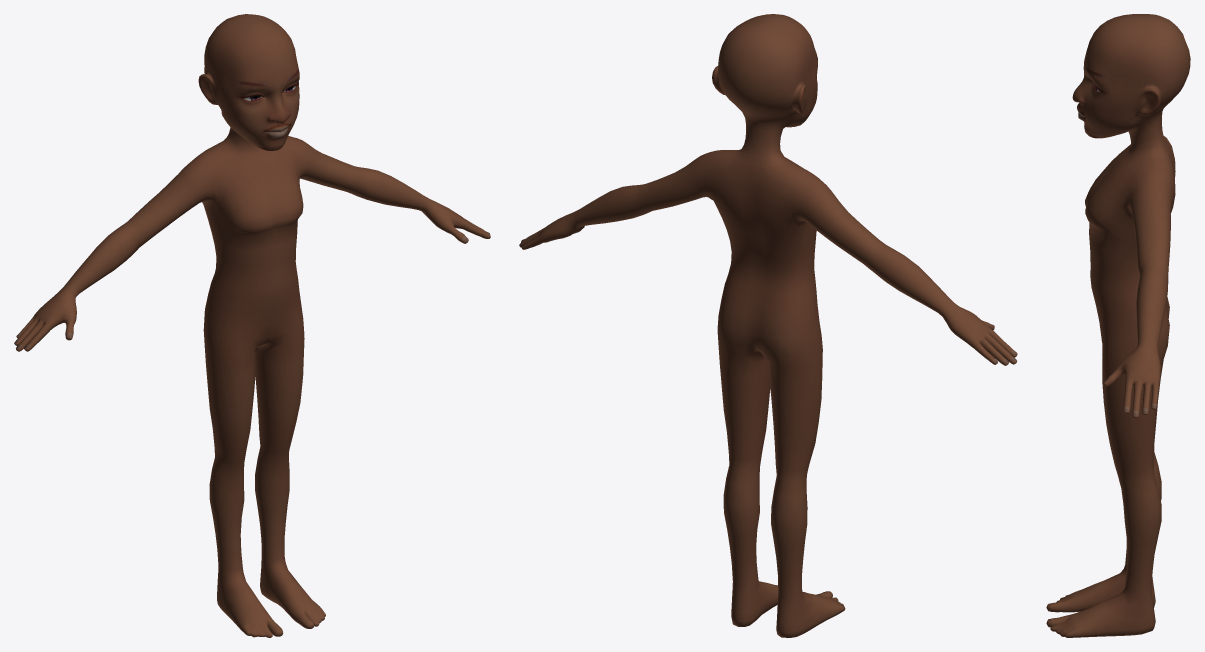
File: frame_0002.glb
The picture shows the model from 3 angles, left to right: view 1: azimuth 30°, elevation 25°; view 2: azimuth 150°, elevation 25°; view 3: azimuth 270°, elevation 25°; orthographic projection. The views are drawn at different scales.
Parts seen in each view (by area): view 1: frame_0002_head_geo; view 2: frame_0002_head_geo; view 3: frame_0002_head_geo.
Boxes of the visible parts, x1,y1,x2,y2 form: frame_0002_head_geo: (14,14,490,637); frame_0002_head_geo: (519,14,1017,637); frame_0002_head_geo: (1046,14,1190,637).
Bounding box in the file's own units: 1.28 × 1.5 × 0.3253.
3 materials, 3 textured.
